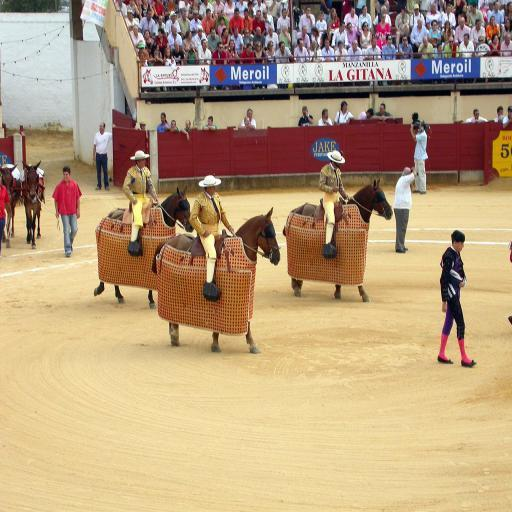Horse: (150, 204, 282, 354), (282, 178, 392, 304), (92, 186, 194, 310), (21, 160, 43, 249), (0, 164, 22, 249)
